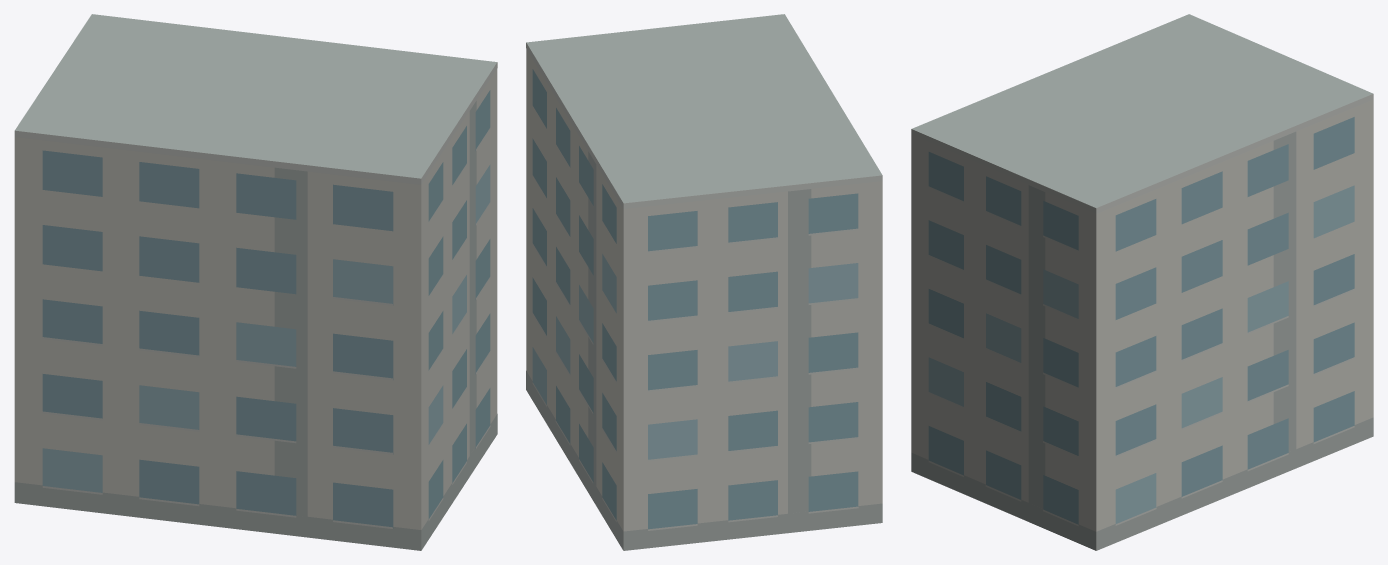
File: survey-upis-32888384.glb
3 renders of one model, left to right at view 1: azimuth 30°, elevation 25°; view 2: azimuth 150°, elevation 25°; view 3: azimuth 270°, elevation 25°, orthographic. The views are drawn at different scales.
Parts seen in each view (by area): view 1: survey-upis-32888384.tmp; view 2: survey-upis-32888384.tmp; view 3: survey-upis-32888384.tmp.
Boxes of the visible parts, <box> form: survey-upis-32888384.tmp: <box>14,14,497,550</box>; survey-upis-32888384.tmp: <box>526,14,882,550</box>; survey-upis-32888384.tmp: <box>911,14,1373,550</box>.
Bounding box in the file's own units: 17.51 × 14.4 × 17.61.
